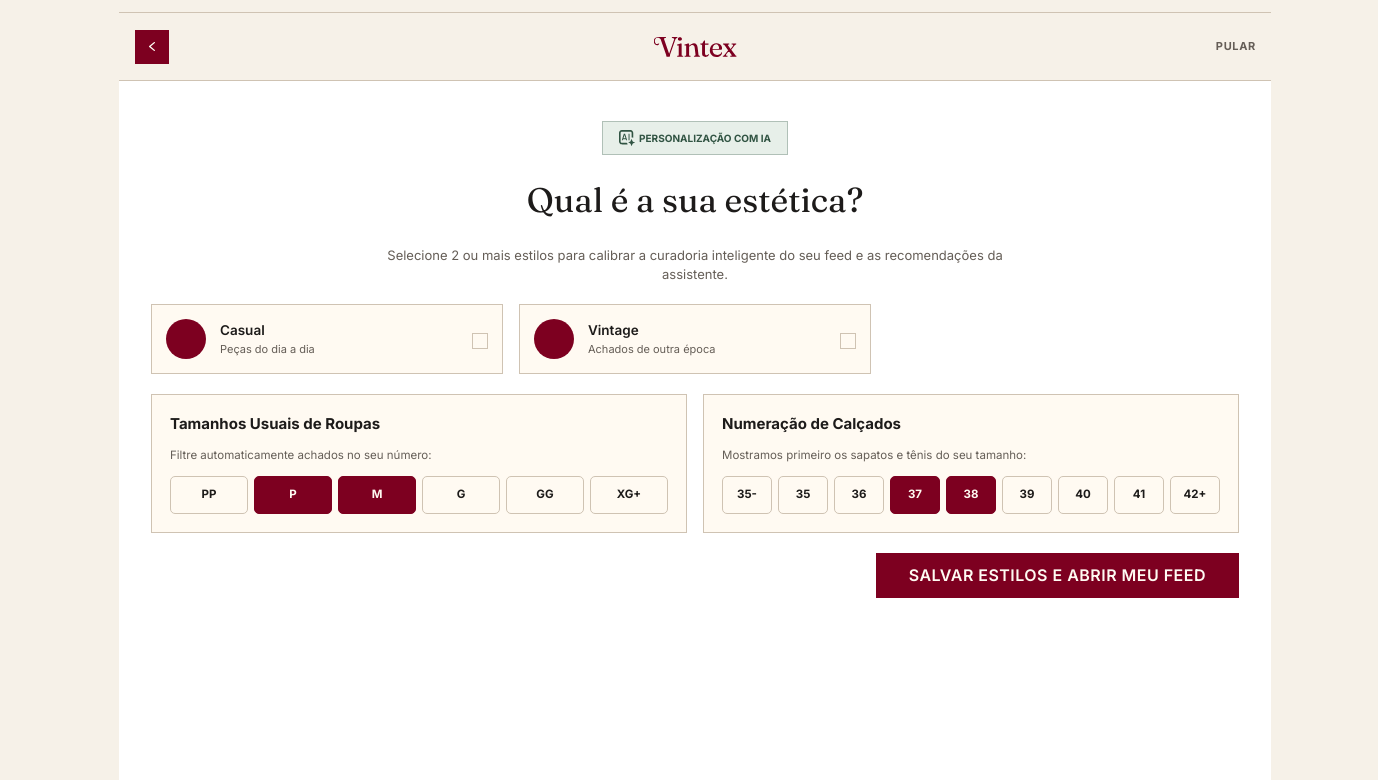
Scenario: StyleSelection › se salvar falhar, ainda assim segue para a home (falha não pode travar a navegação)
Click the checkbox labelled "Vintage Achados de outra época".
click(848, 340)  # box top-left (840, 332), bottom-right (856, 348)
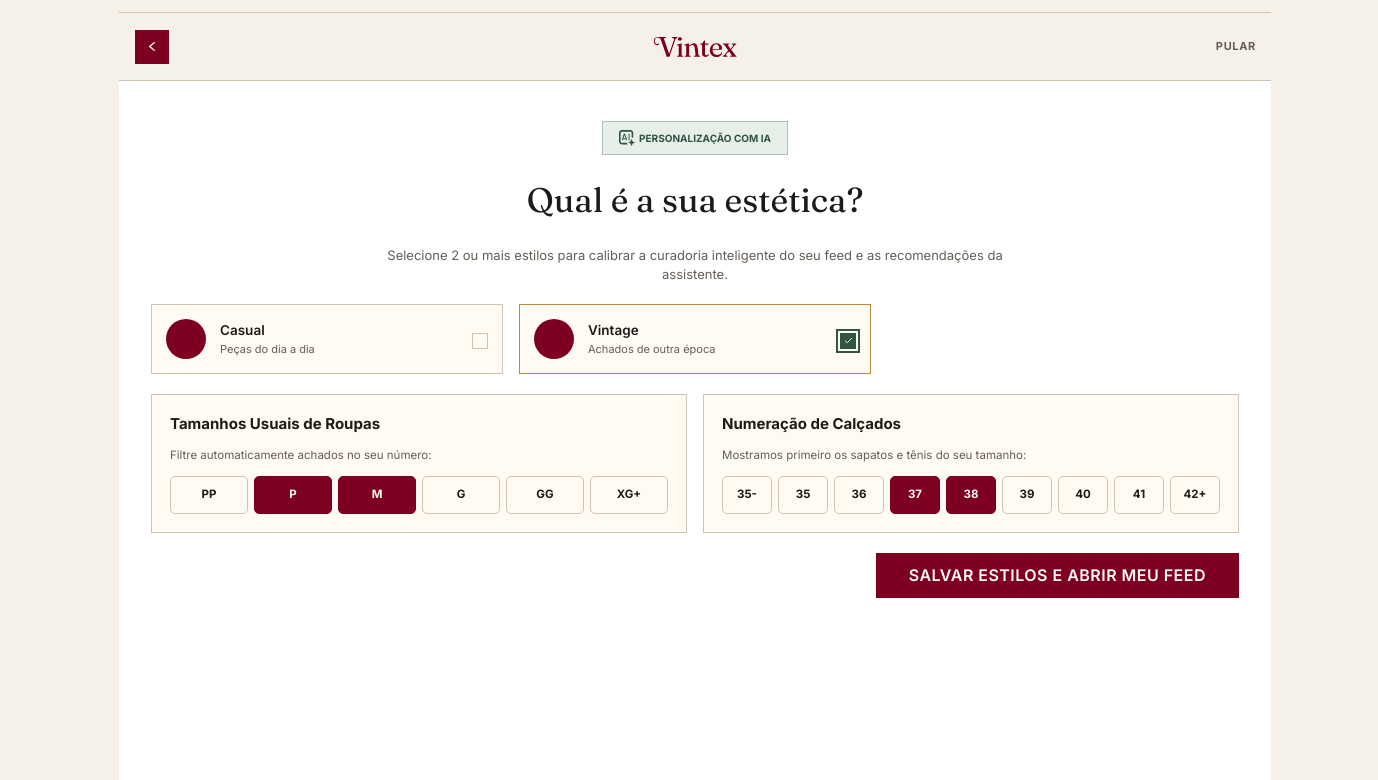
Click the button "SALVAR ESTILOS E ABRIR MEU FEED".
click(1057, 575)  # box top-left (876, 552), bottom-right (1239, 598)
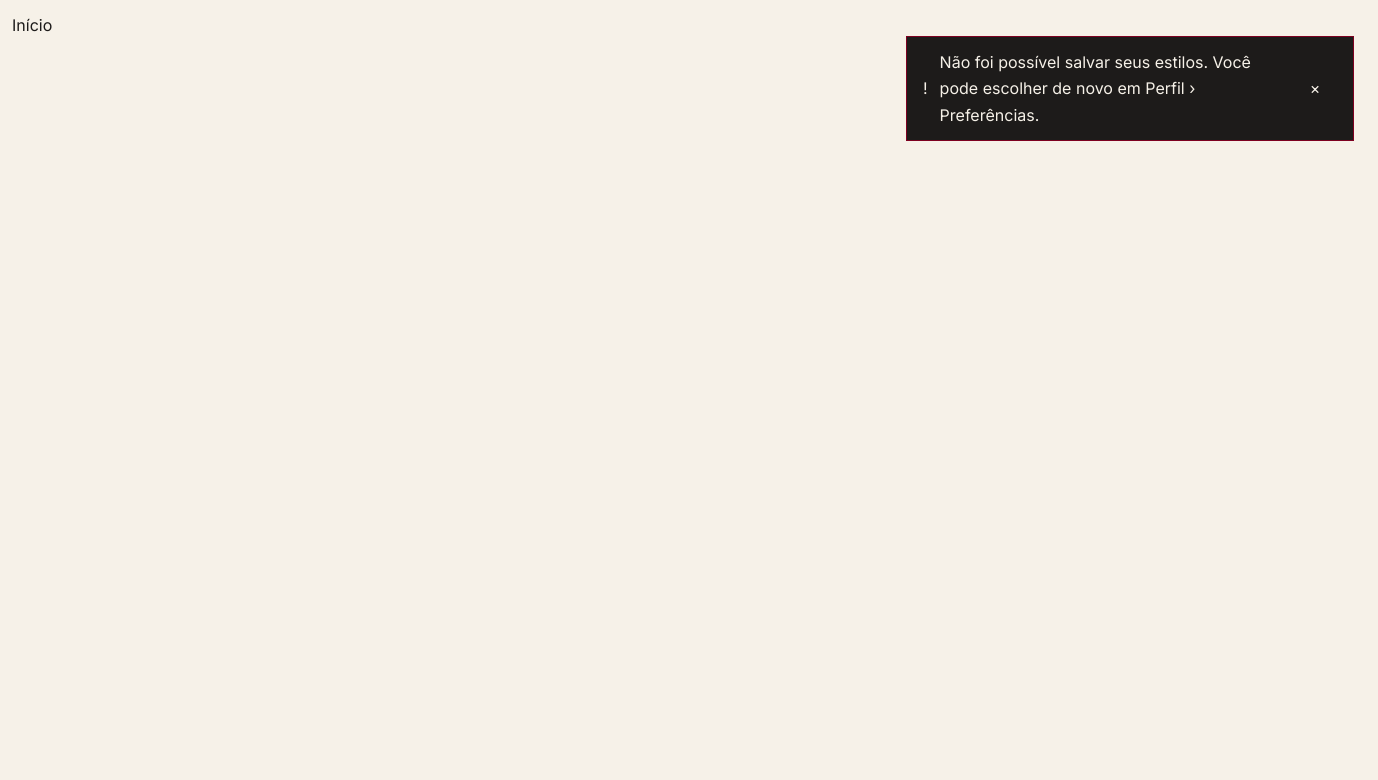
expect the heading "Início" is shown: met, box top-left (12, 15), bottom-right (52, 35)
expect the message shows "Não foi possível salvar seus estilos.": met, box top-left (940, 52), bottom-right (1251, 125)
